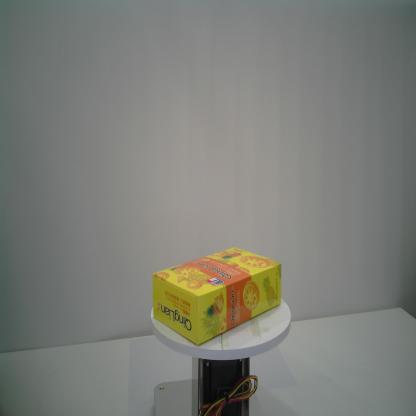Dessert: (152, 244, 283, 348)
